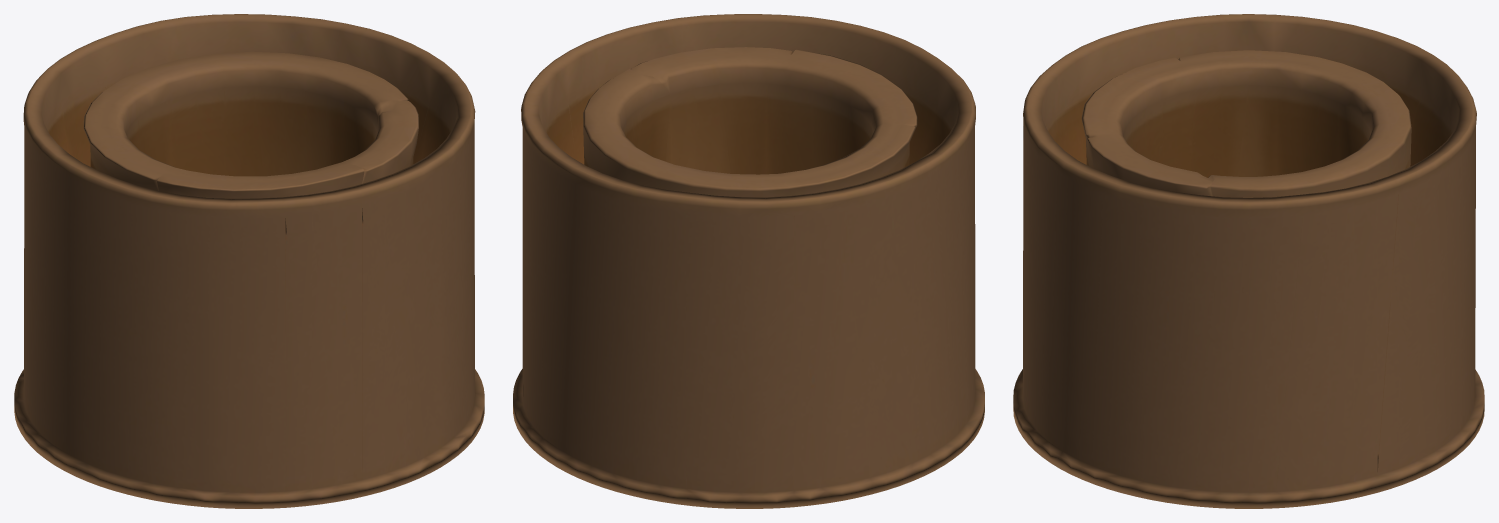
File: roll_tapecore.glb
3 renders of one model, left to right at view 1: azimuth 30°, elevation 25°; view 2: azimuth 150°, elevation 25°; view 3: azimuth 270°, elevation 25°, orthographic.
Visible parts, largest first — view 1: tripo_node_36ab743e-edfb-4efb-b3b2-ee6b0e7c0b3a; view 2: tripo_node_36ab743e-edfb-4efb-b3b2-ee6b0e7c0b3a; view 3: tripo_node_36ab743e-edfb-4efb-b3b2-ee6b0e7c0b3a.
Part boxes in pixels (left/top/right/bottom): tripo_node_36ab743e-edfb-4efb-b3b2-ee6b0e7c0b3a: left=14, top=14, right=484, bottom=508; tripo_node_36ab743e-edfb-4efb-b3b2-ee6b0e7c0b3a: left=513, top=14, right=984, bottom=508; tripo_node_36ab743e-edfb-4efb-b3b2-ee6b0e7c0b3a: left=1013, top=14, right=1484, bottom=508.
Bounding box in the file's own units: 0.9995 × 0.7065 × 0.9995.
Materials: 1 (1 with a texture image).
